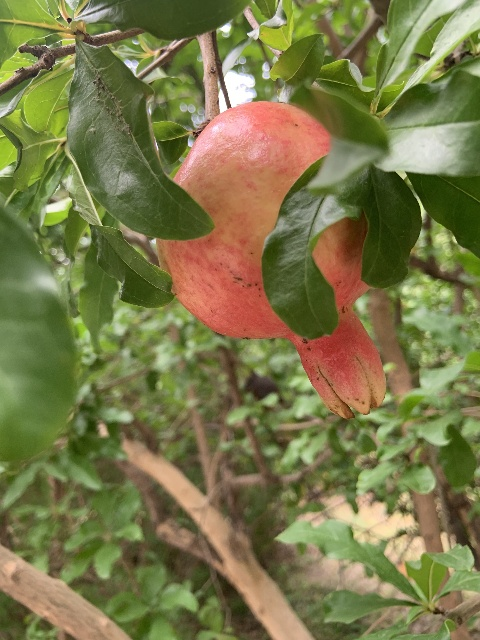ripe: (155, 101, 386, 420)
